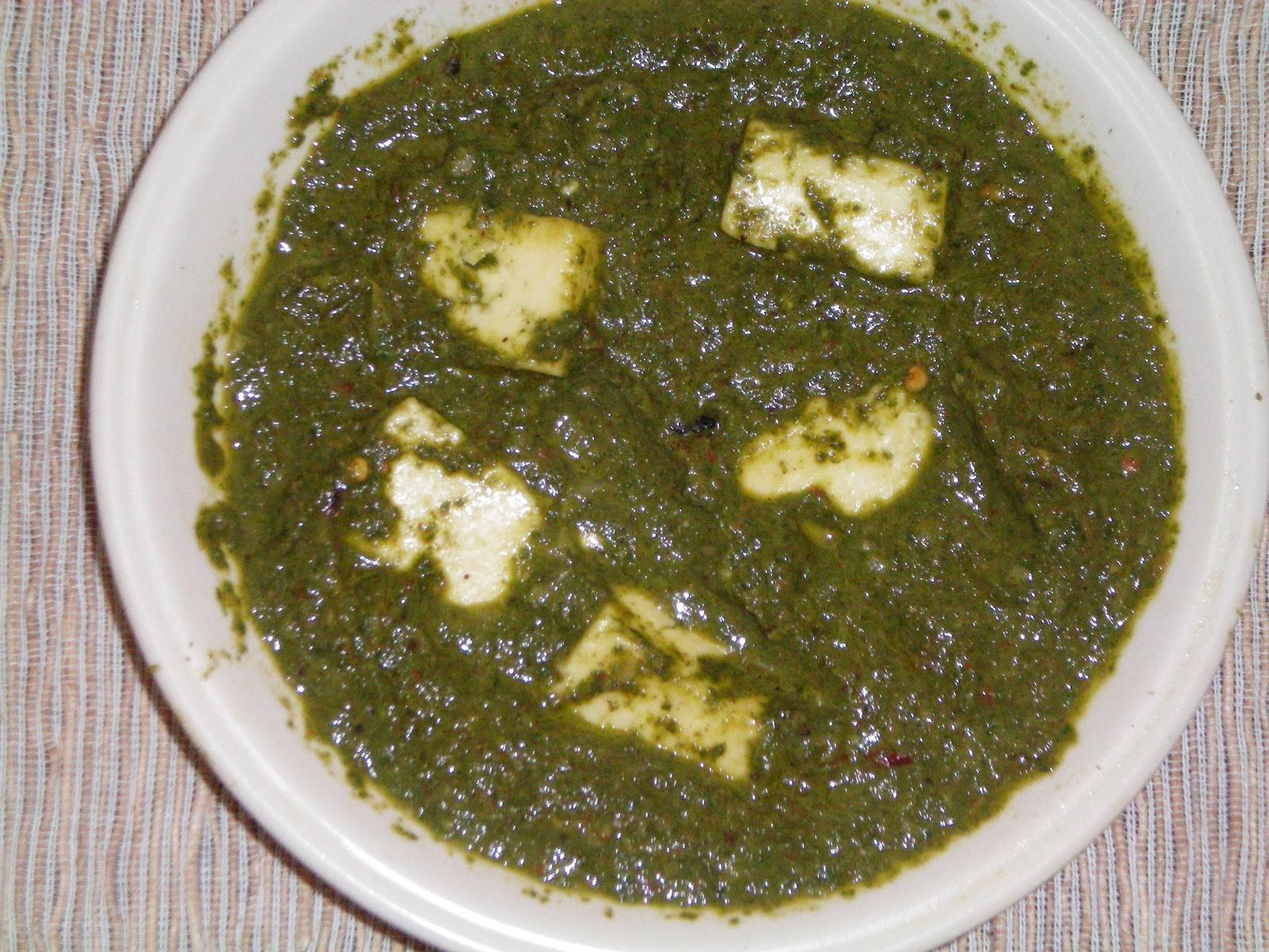PalakPaneer: (220, 0, 1179, 920)
